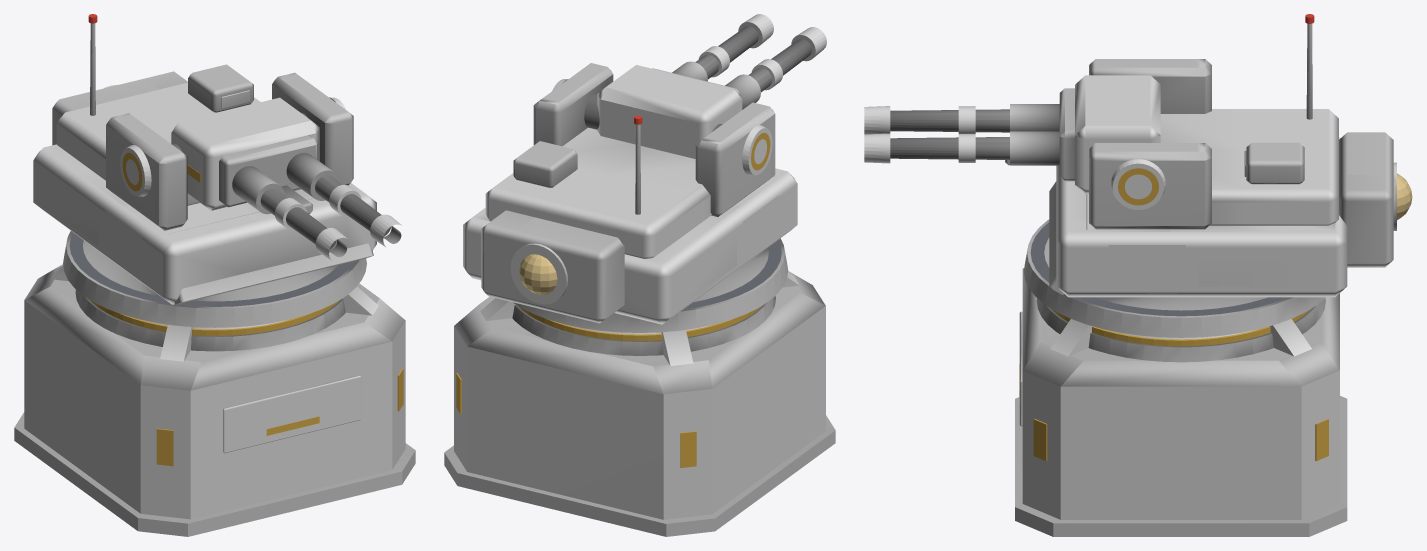
Rendered from kanzel_1.glb.
The picture shows the model from 3 angles, left to right: view 1: azimuth 30°, elevation 25°; view 2: azimuth 150°, elevation 25°; view 3: azimuth 270°, elevation 25°; orthographic projection. The views are drawn at different scales.
Visible parts, largest first — view 1: Rumpf, Drehring, Geschuetz, Ladung; view 2: Rumpf, Drehring, Geschuetz, Ladung, Kern, Gelenk; view 3: Drehring, Rumpf, Geschuetz, Ladung.
Boxes of the visible parts, x1=… form: Rumpf: x1=14, y1=264, x2=415, y2=536; Drehring: x1=33, y1=14, x2=376, y2=327; Geschuetz: x1=171, y1=97, x2=402, y2=260; Ladung: x1=90, y1=300, x2=339, y2=335; Rumpf: x1=444, y1=271, x2=835, y2=536; Drehring: x1=463, y1=63, x2=797, y2=332; Geschuetz: x1=597, y1=14, x2=826, y2=158; Ladung: x1=518, y1=306, x2=761, y2=340; Kern: x1=519, y1=254, x2=557, y2=294; Gelenk: x1=584, y1=93, x2=722, y2=131; Drehring: x1=1023, y1=14, x2=1396, y2=337; Rumpf: x1=1015, y1=268, x2=1347, y2=536; Geschuetz: x1=864, y1=75, x2=1160, y2=194; Ladung: x1=1052, y1=309, x2=1310, y2=346.
Bounding box in the file's own units: 2.62 × 3.66 × 4.32.
